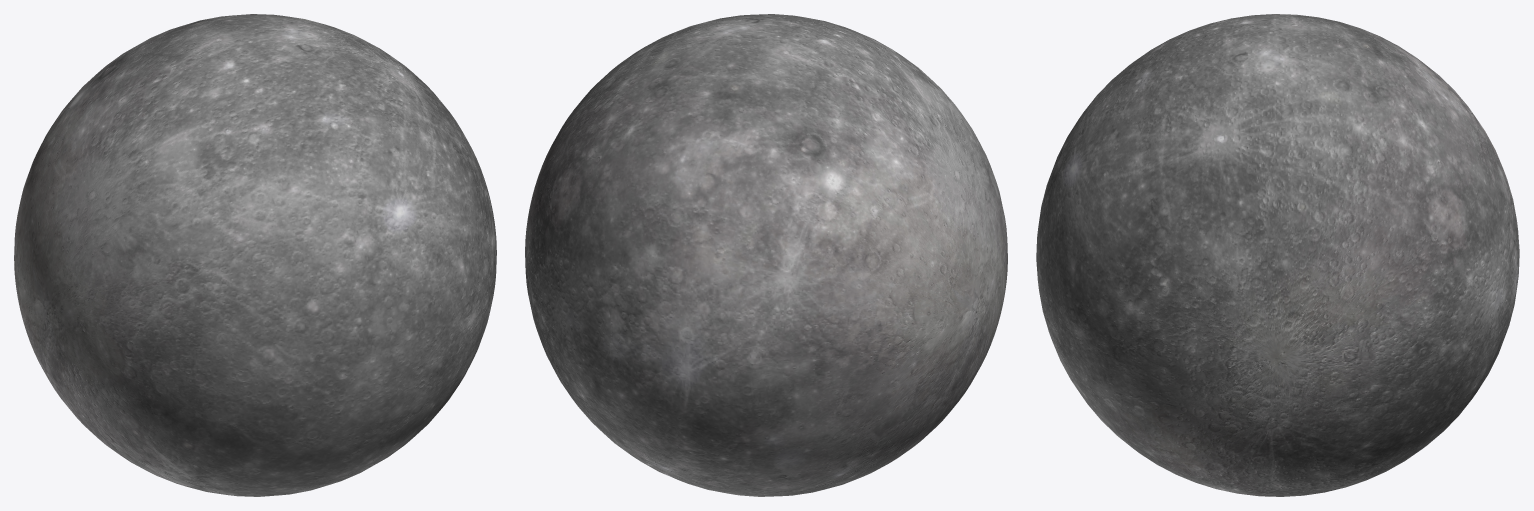
The model's file is pluto.glb.
3 renders of one model, left to right at view 1: azimuth 30°, elevation 25°; view 2: azimuth 150°, elevation 25°; view 3: azimuth 270°, elevation 25°, orthographic.
Parts seen in each view (by area): view 1: pluto; view 2: pluto; view 3: pluto.
Part boxes in pixels (x1=…): pluto: x1=14, y1=14, x2=496, y2=496; pluto: x1=525, y1=14, x2=1007, y2=496; pluto: x1=1036, y1=14, x2=1519, y2=496.
Size of the model in its own units: 0.4481 by 0.4481 by 0.4481.
1 material, 1 textured.
